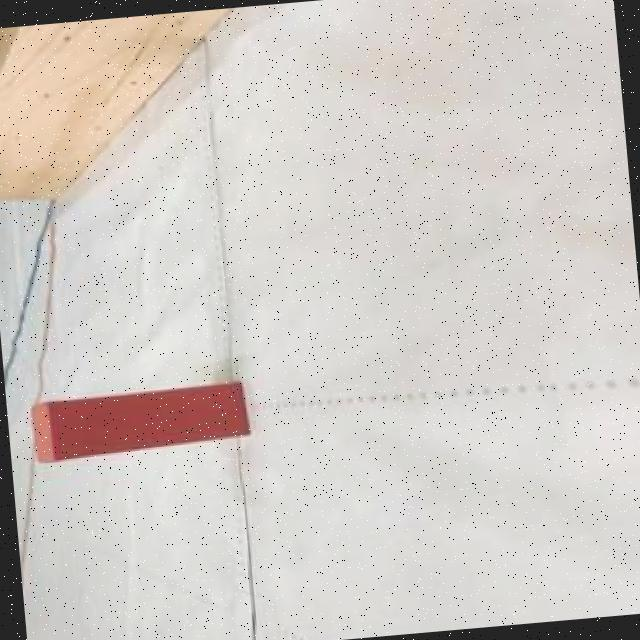redbox: (26, 379, 251, 465)
